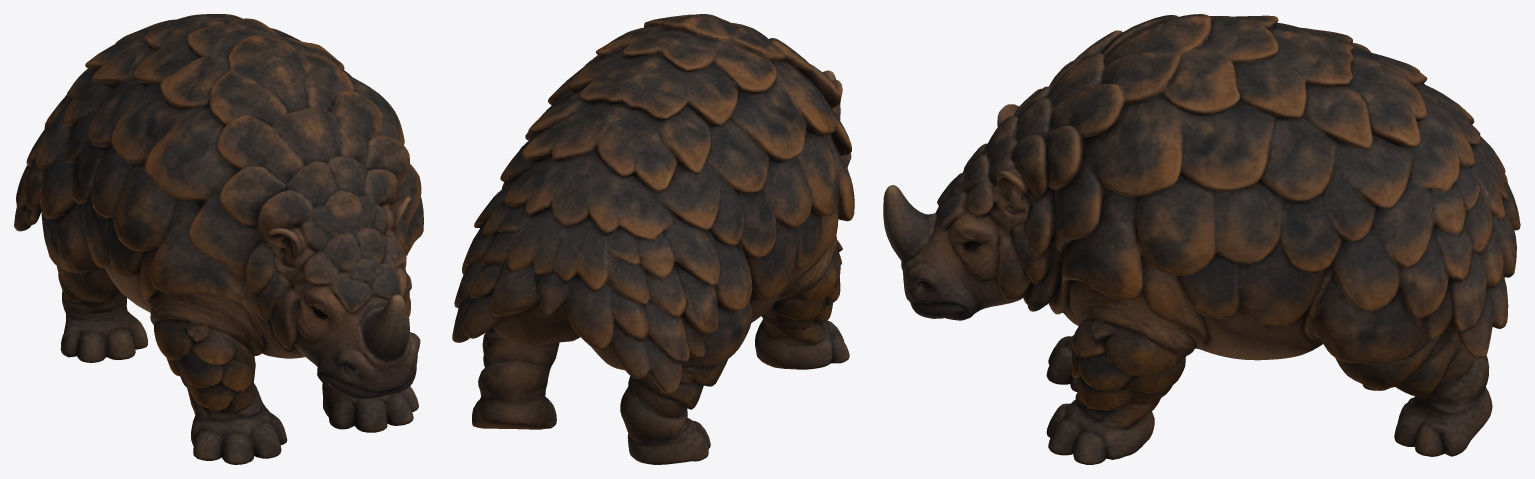
Rendered from generation_beast_0.glb.
The picture shows the model from 3 angles, left to right: view 1: azimuth 30°, elevation 25°; view 2: azimuth 150°, elevation 25°; view 3: azimuth 270°, elevation 25°; orthographic projection. The views are drawn at different scales.
Visible parts, largest first — view 1: geometry_0; view 2: geometry_0; view 3: geometry_0.
Part boxes in pixels (x1,y1,x2,y2): geometry_0: (14, 14, 423, 464); geometry_0: (452, 14, 854, 464); geometry_0: (883, 14, 1520, 464).
Size of the model in its own units: 0.5529 by 0.677 by 1.
Materials: 1 (1 with a texture image).
